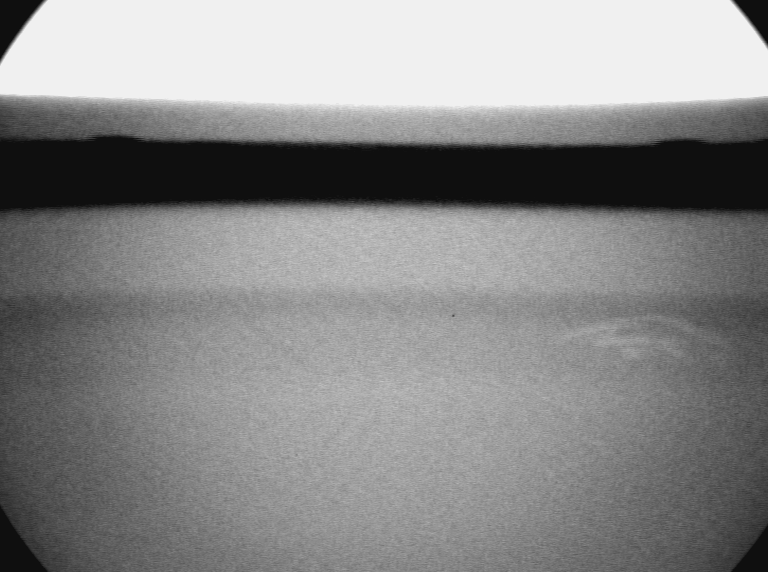defect: (562, 310, 736, 377)
